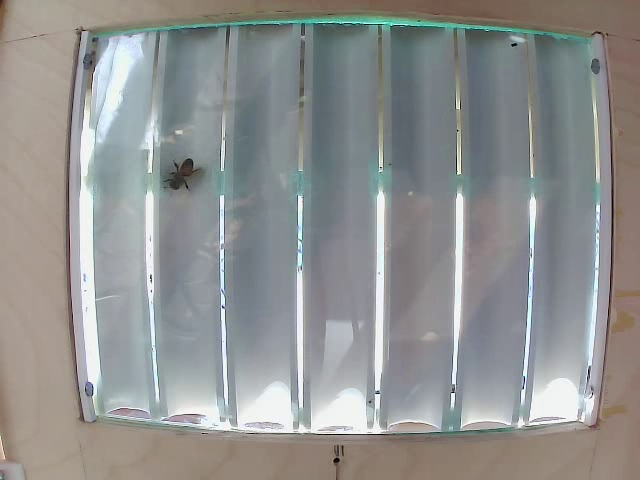bee: (162, 152, 200, 195)
